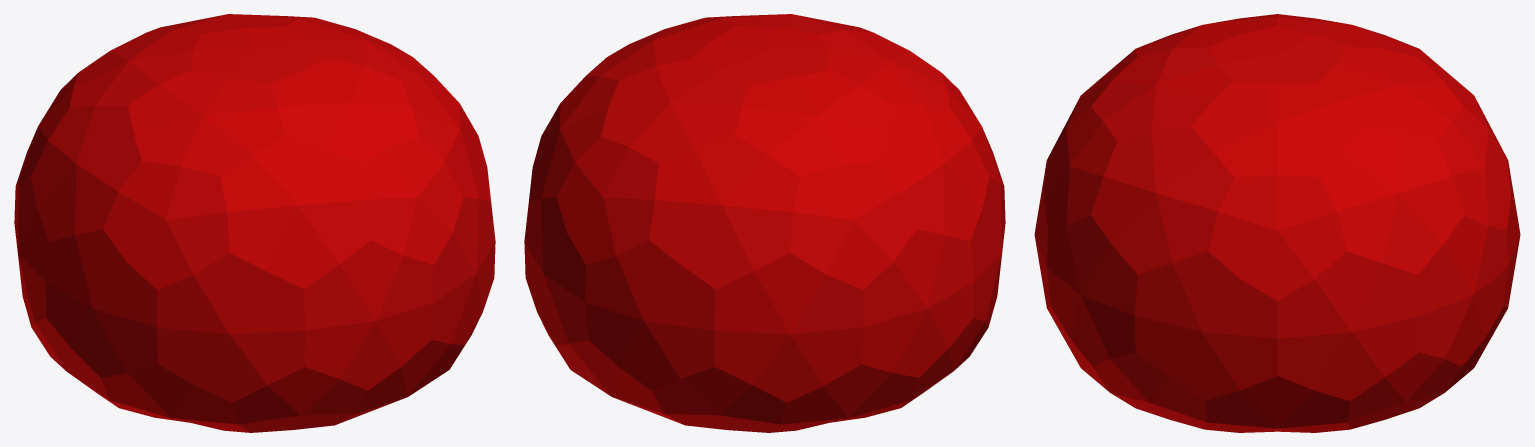
Rendered from japko.obj.
3 renders of one model, left to right at view 1: azimuth 30°, elevation 25°; view 2: azimuth 150°, elevation 25°; view 3: azimuth 270°, elevation 25°, orthographic.
Parts seen in each view (by area): view 1: Icosphere; view 2: Icosphere; view 3: Icosphere.
Part boxes in pixels (bbox=[...]): Icosphere: bbox=[14, 14, 495, 432]; Icosphere: bbox=[524, 14, 1005, 432]; Icosphere: bbox=[1034, 14, 1520, 432].
Bounding box in the file's own units: 1.85 × 1.47 × 1.85.
